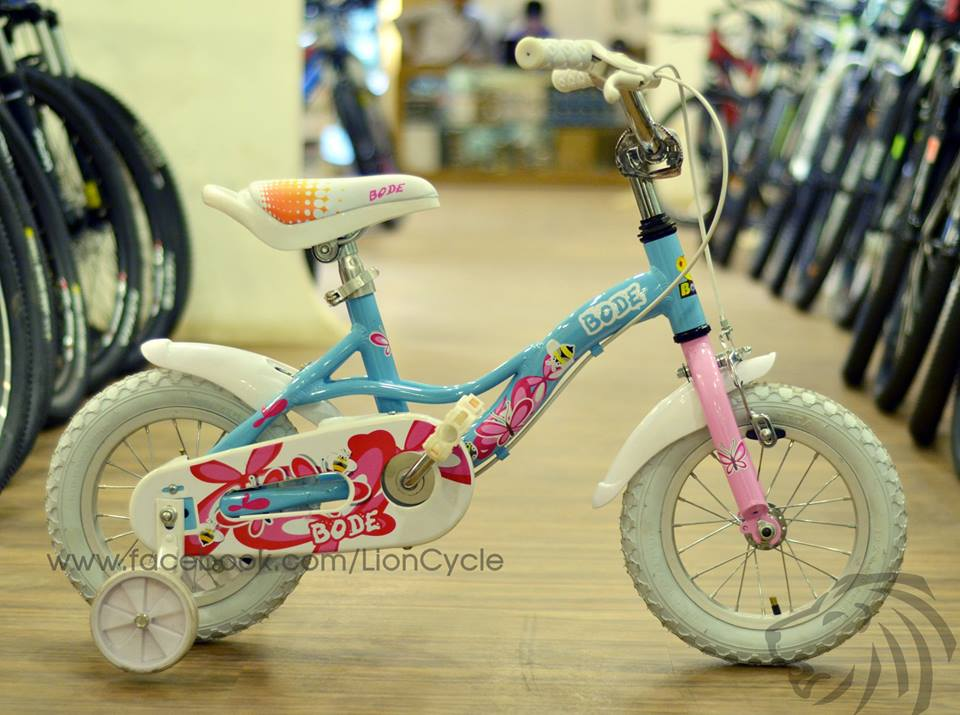bicycle: (56, 33, 901, 696)
